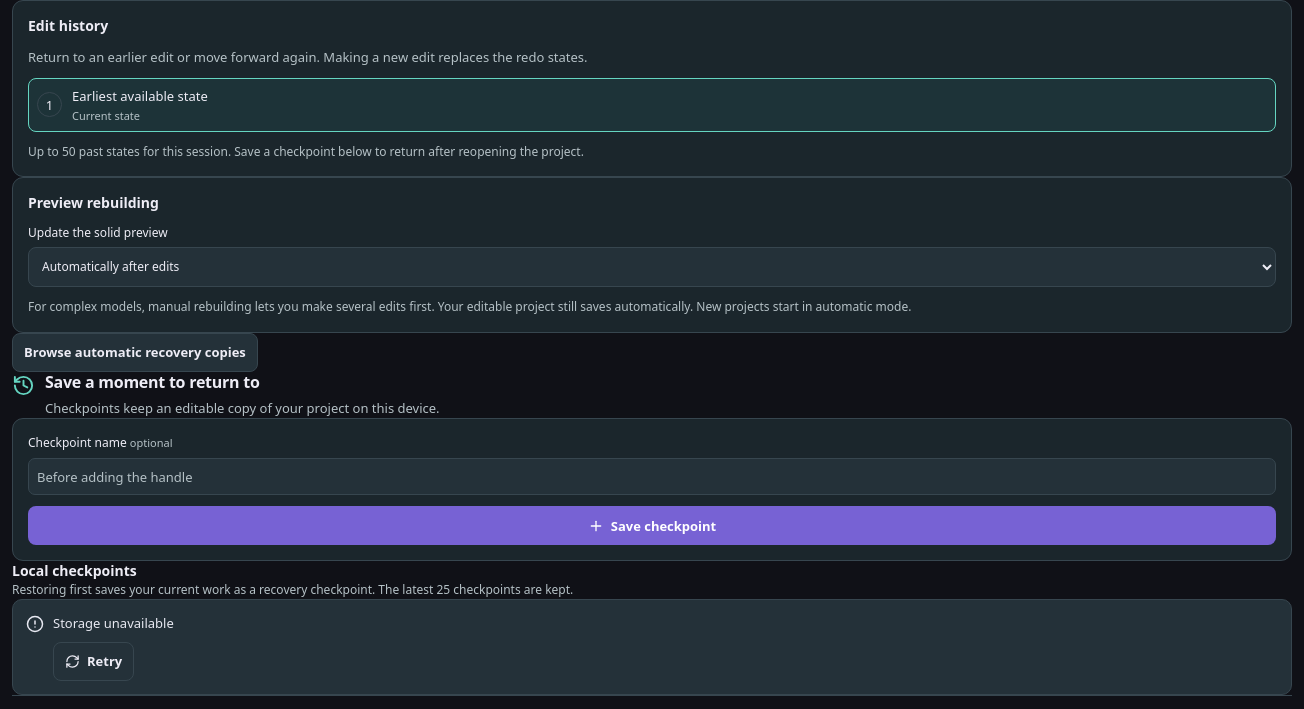
Test case: checkpoint list › shows a recoverable storage error instead of claiming there are no checkpoints
Expected: the message "Storage unavailable Retry" is shown, x1=12 y1=599 x2=1292 y2=694
Expected: the text "No checkpoints yet" is not shown
Click the button "Retry". click: point(94, 661)
box: x1=53 y1=642 x2=134 y2=681
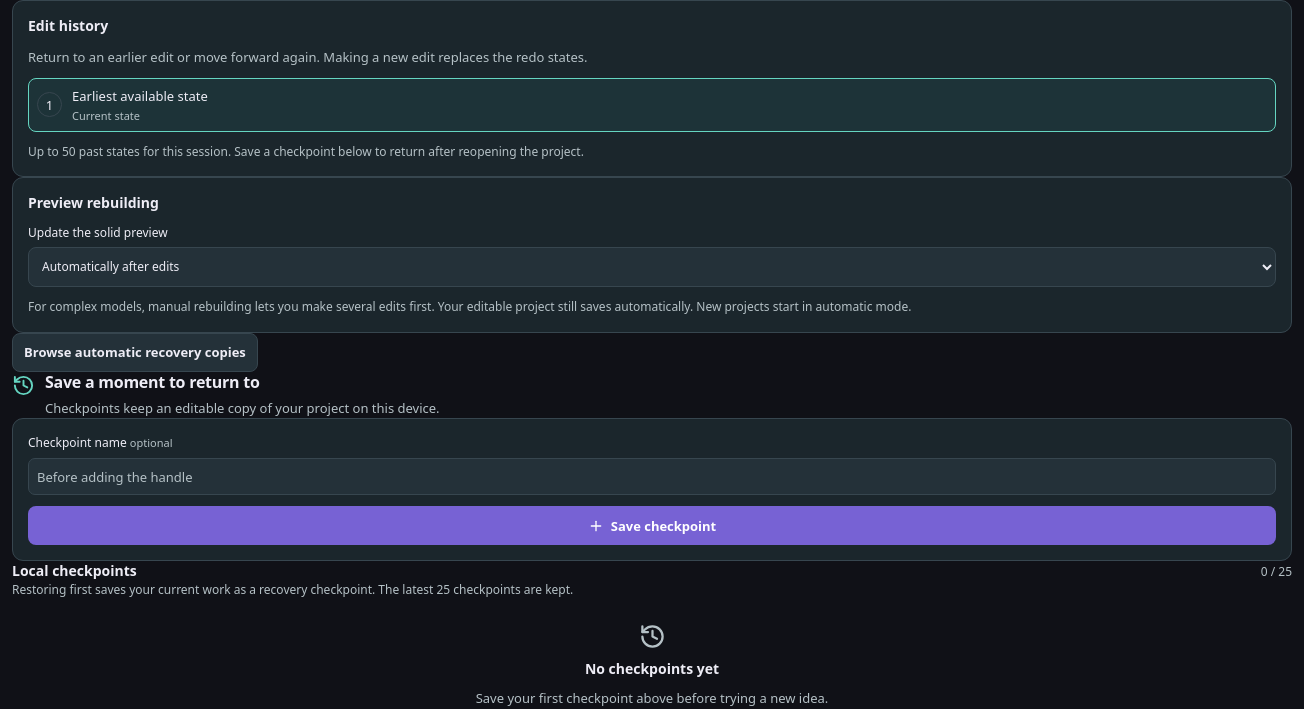
Expected: the text "No checkpoints yet" is shown, x1=585 y1=659 x2=719 y2=679
